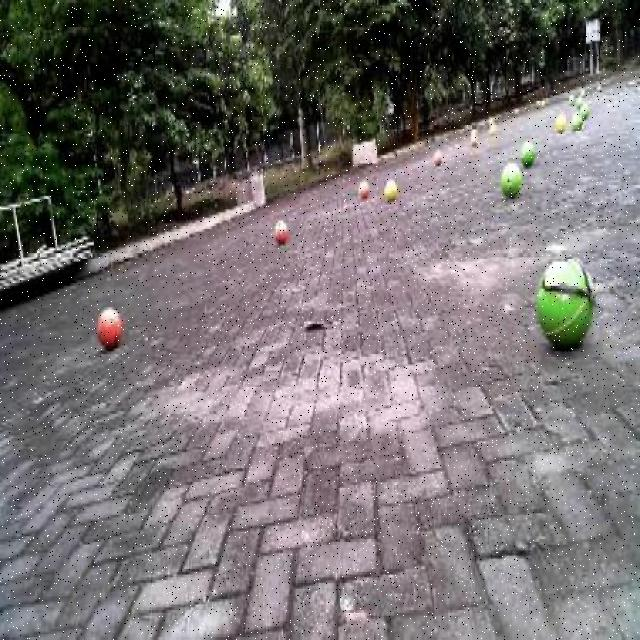buoy: (528, 240, 602, 362), (90, 293, 130, 358), (490, 150, 528, 207), (265, 202, 295, 252), (376, 163, 402, 210), (513, 130, 539, 174), (351, 166, 376, 207)
